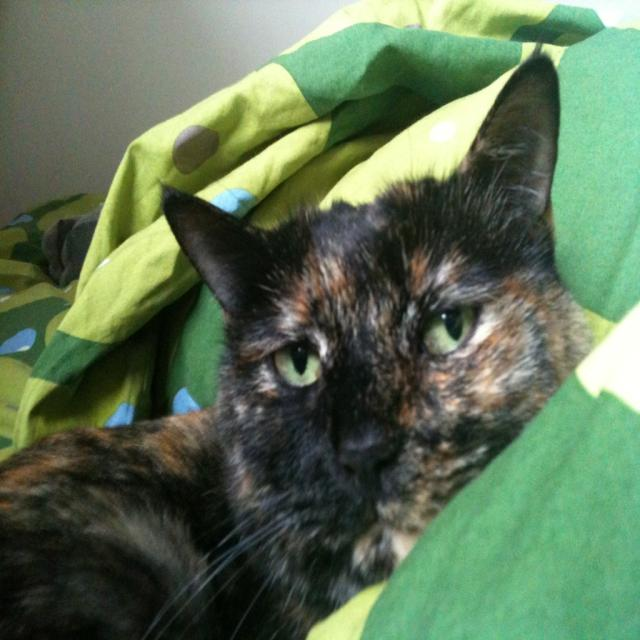Cat: (0, 49, 594, 638)
